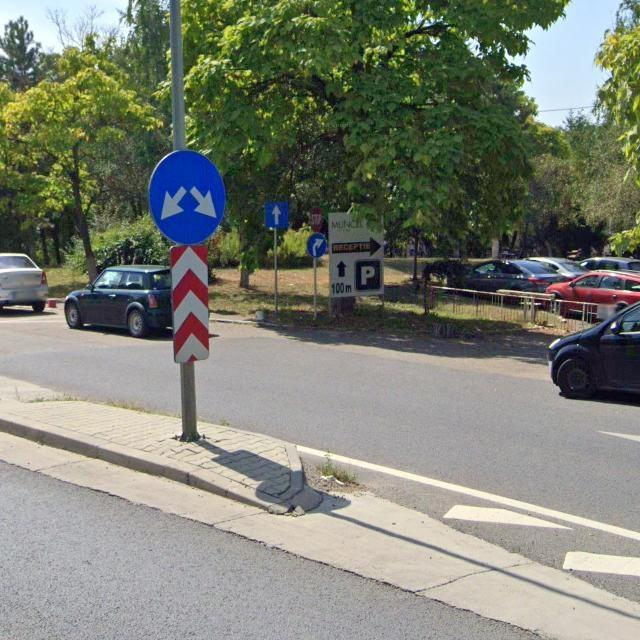prio_stop: (310, 207, 324, 232)
